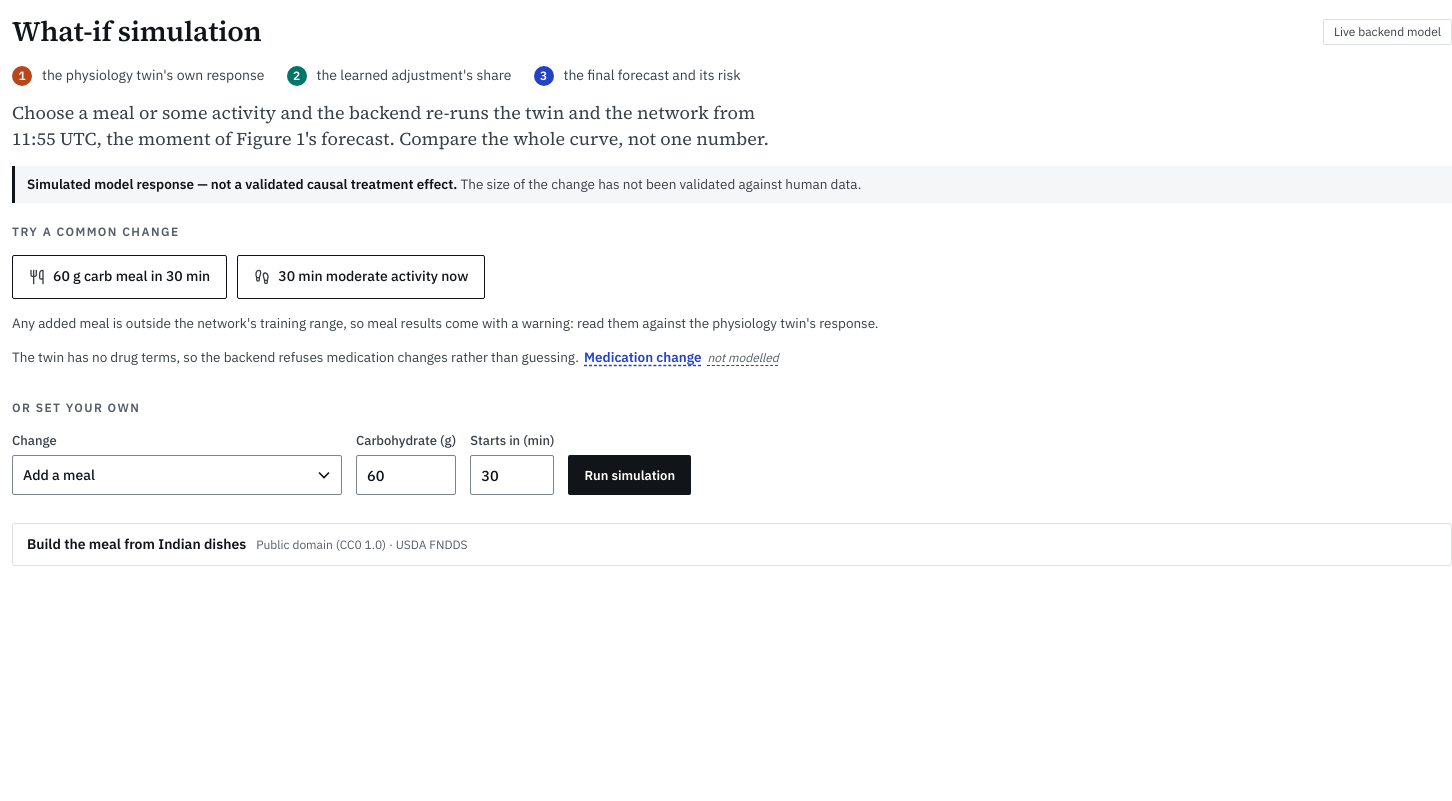
Test: ScenarioEditor — backend-driven what-if › shows the physiology twin alone, the largest learned adjustment, and the out-of-range caution from the service
The image size is (1452, 801).
Click the button "Run simulation": (630, 475) [568,455,691,495]
(page scrolled)
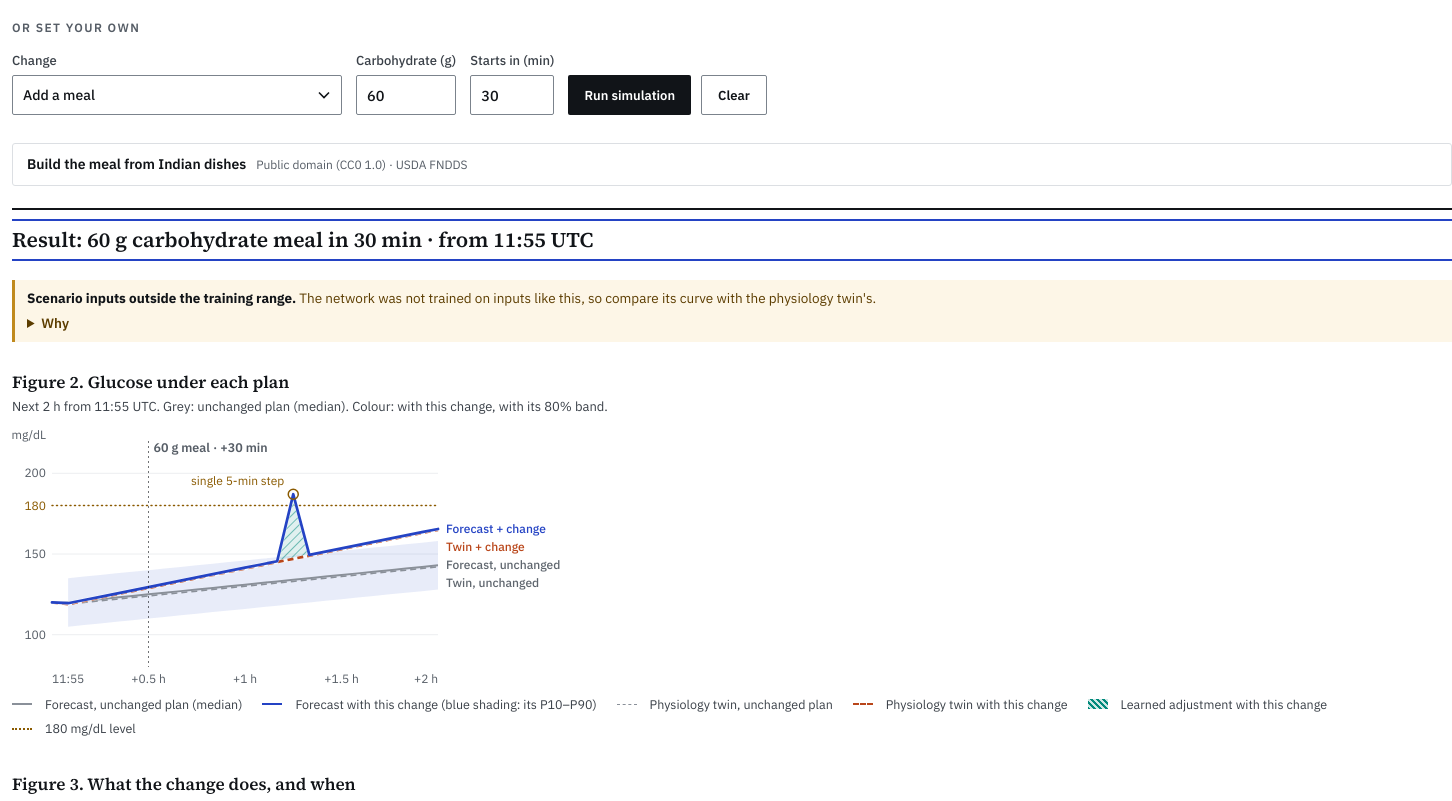
Expected: the element with test id "whatif-step-marker" is shown, [191,473,284,488]
Now the element with test id "scenario-out-of-range" shows "Scenario inputs outside the training range", box [27,289,292,307]
